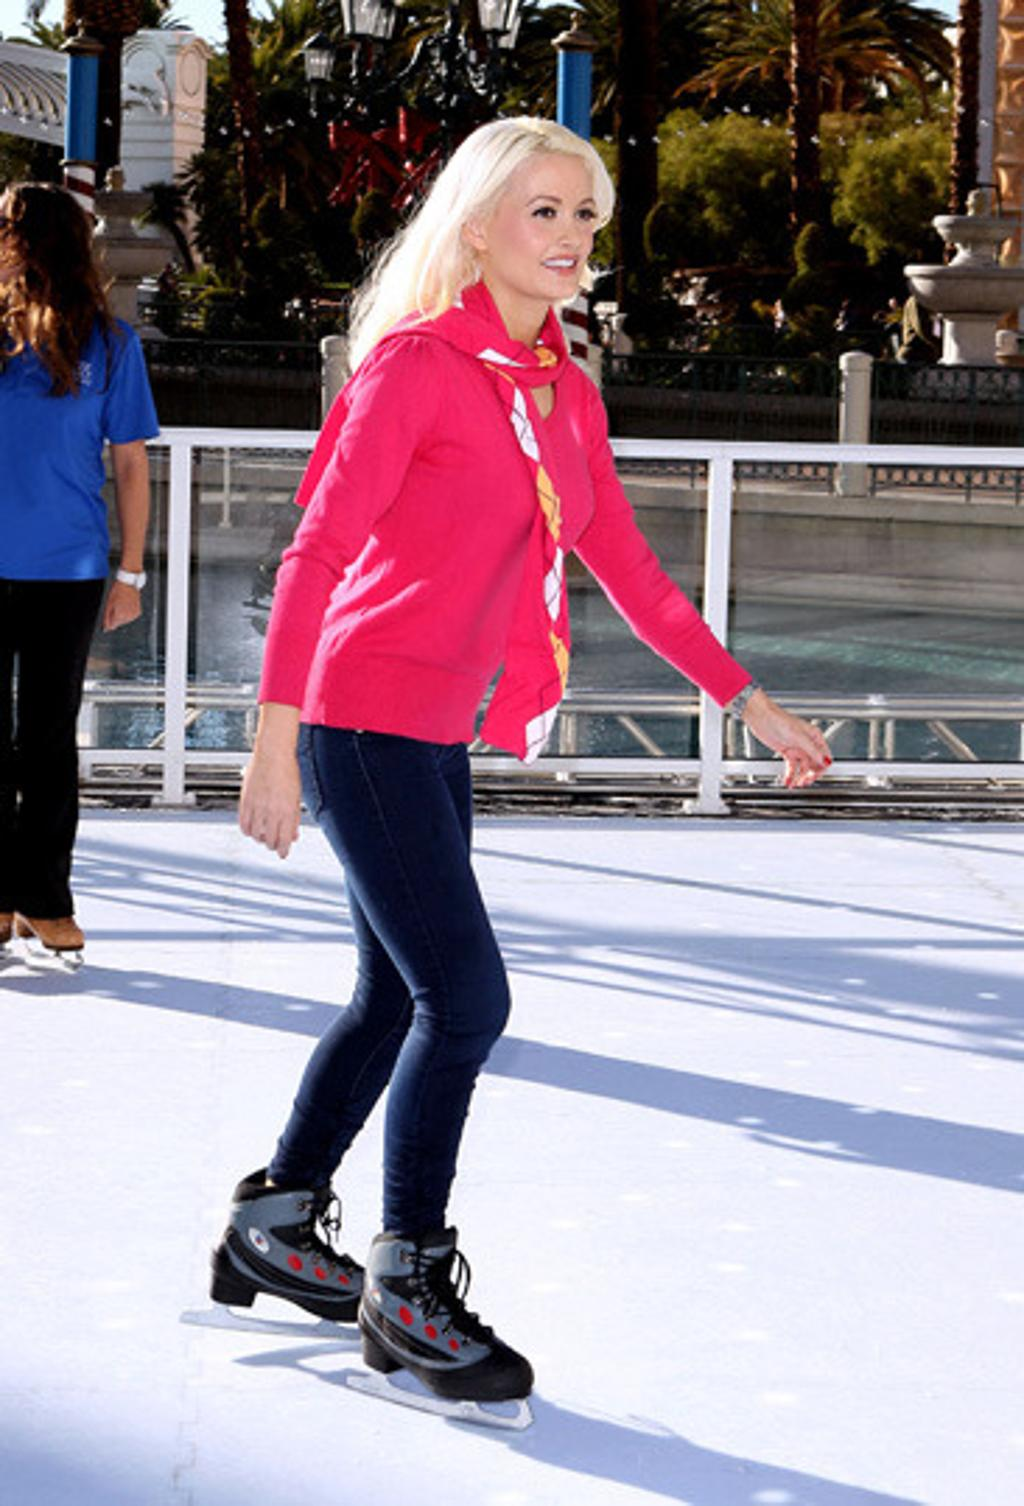face: (494, 150, 597, 297)
